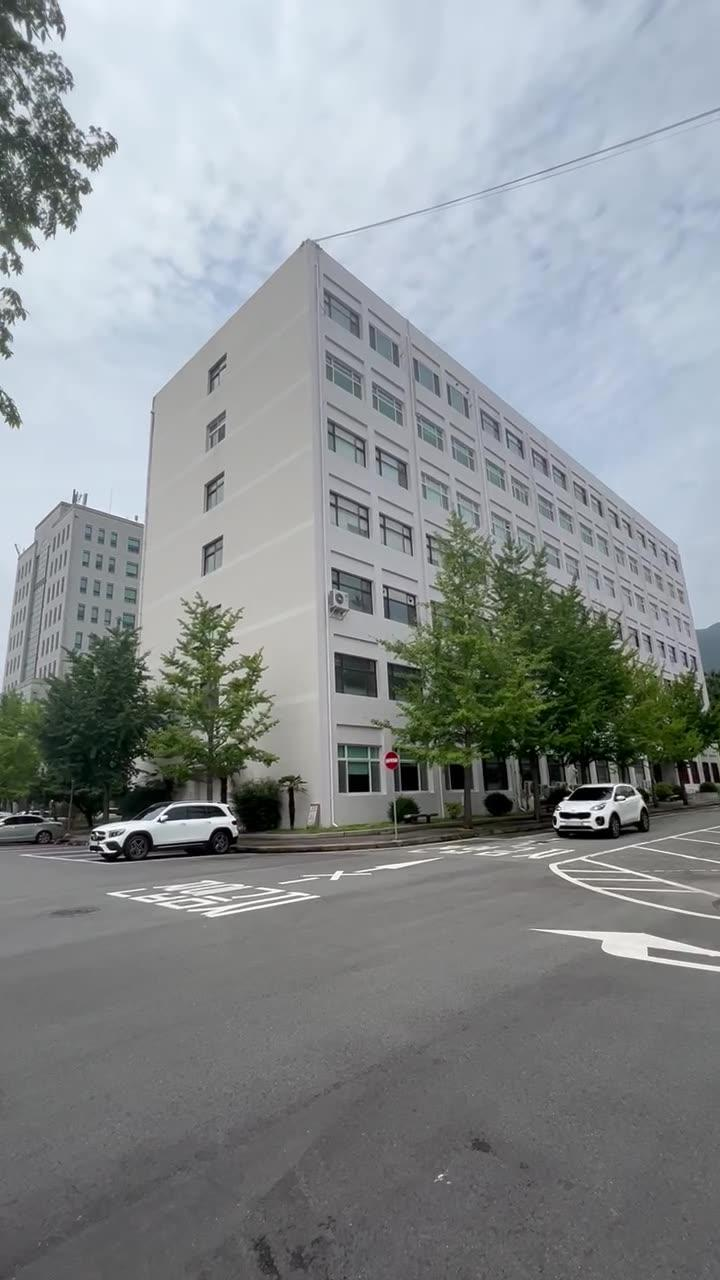building: (120, 272, 452, 616)
